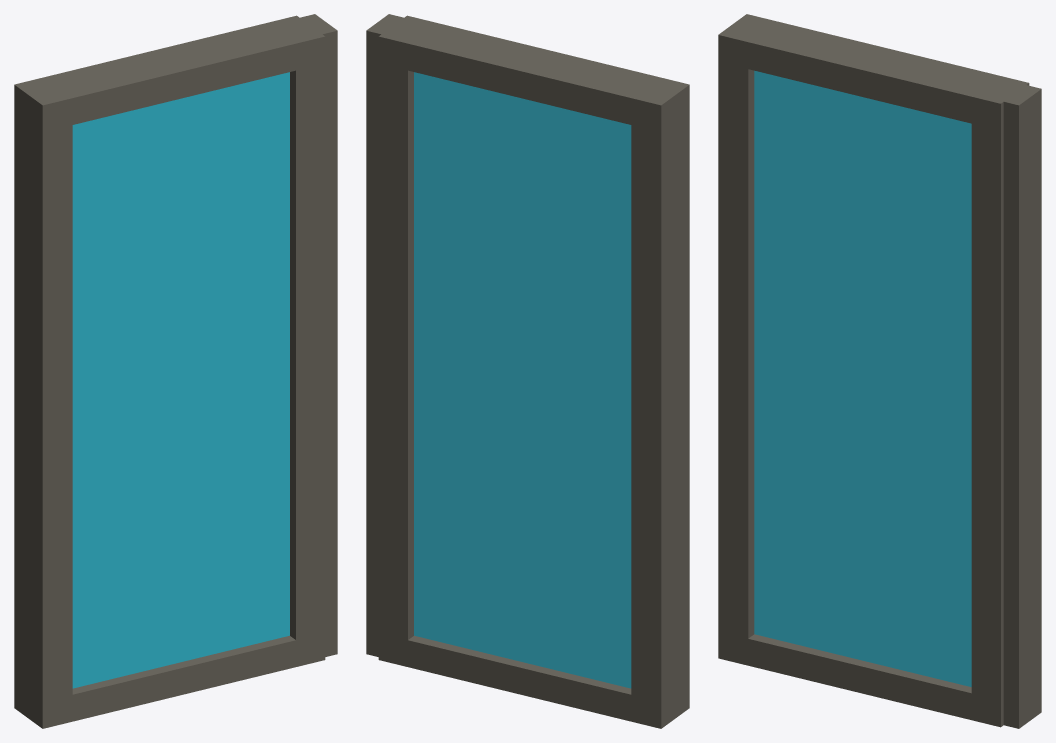
Rendered from RDoor.fbx.
3 renders of one model, left to right at view 1: azimuth 30°, elevation 25°; view 2: azimuth 150°, elevation 25°; view 3: azimuth 330°, elevation 25°, orthographic.
Parts seen in each view (by area): view 1: RDoor; view 2: RDoor; view 3: RDoor.
Boxes of the visible parts, left/top/right/bottom form: RDoor: left=14, top=14, right=337, bottom=728; RDoor: left=366, top=14, right=689, bottom=728; RDoor: left=718, top=14, right=1041, bottom=728.
Bounding box in the file's own units: 3 × 6 × 0.4974.
